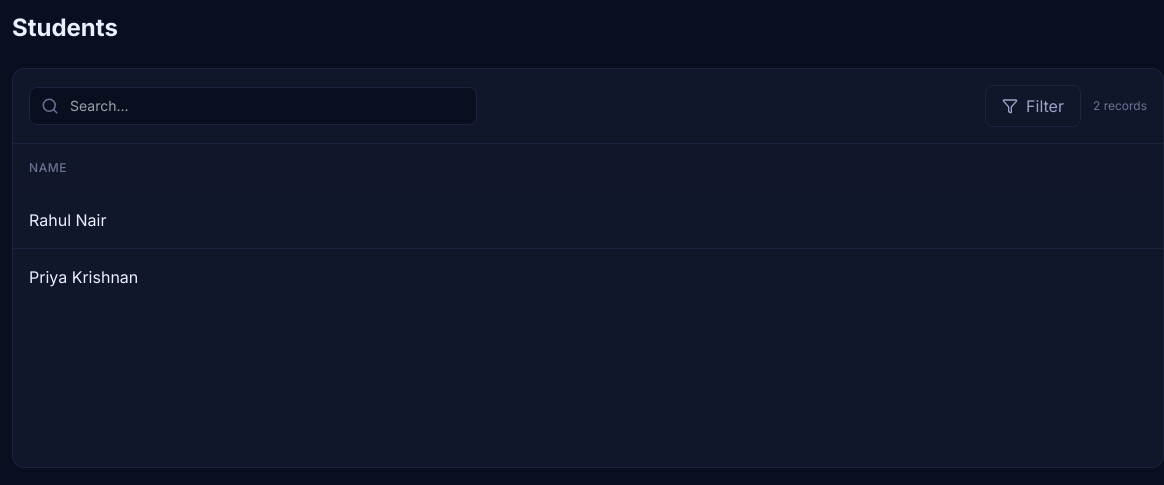
EntityListPage › reveals the filter panel only after the Filter button is toggled on
Click the button "Filter": (1033, 106) [985,85,1081,127]
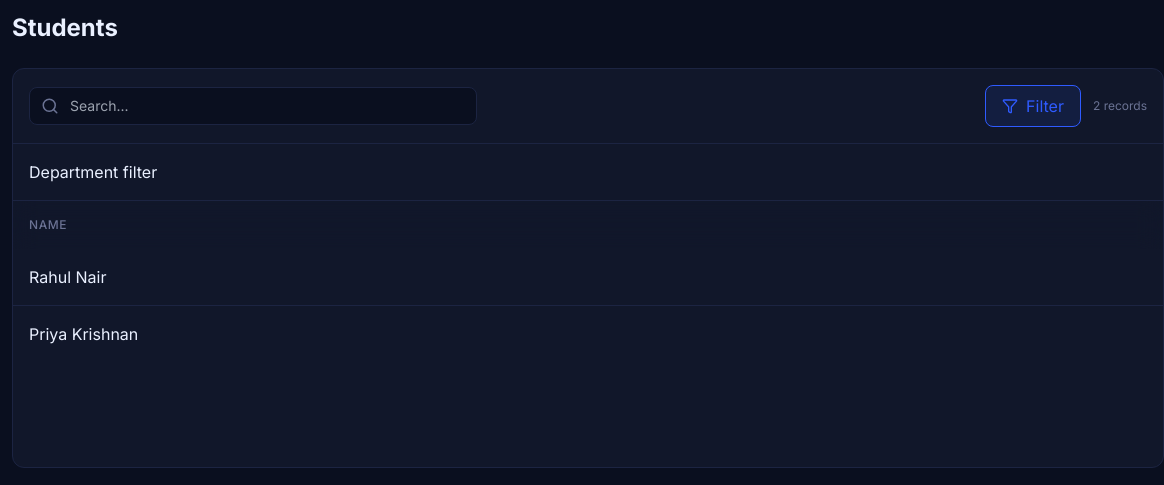
Now the text "Department filter" is shown, box [29,160,157,184]
Click the button "Filter": (1033, 106) [985,85,1081,127]
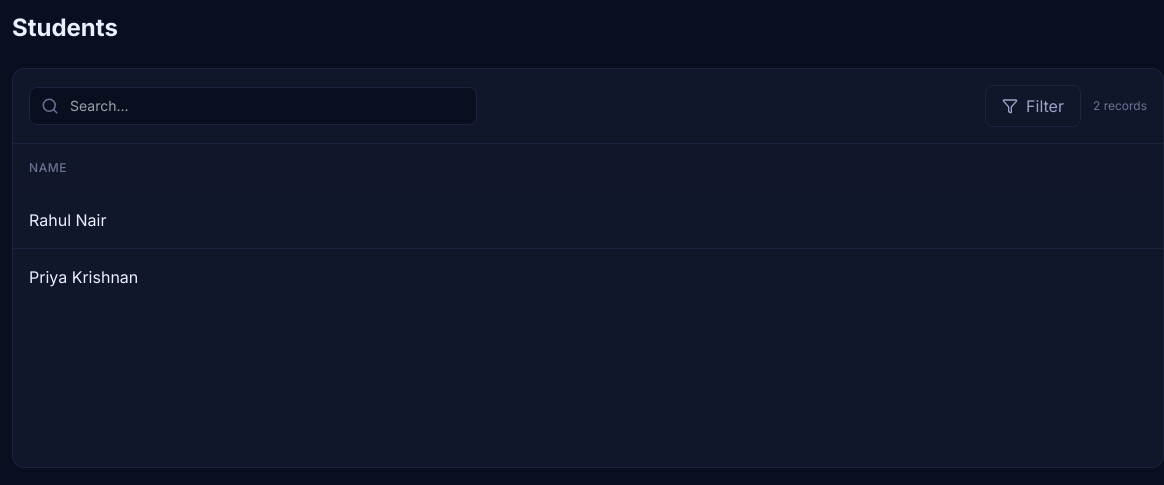
Now the text with test id "dept-filter" is gone
